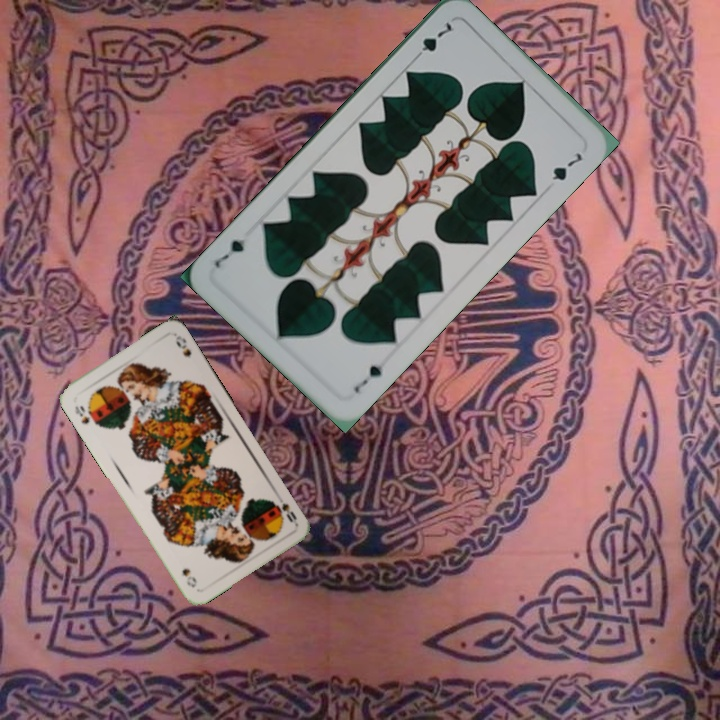G7: (409, 18, 456, 64), (349, 361, 385, 396)
SO: (268, 496, 300, 527), (71, 402, 99, 428)
